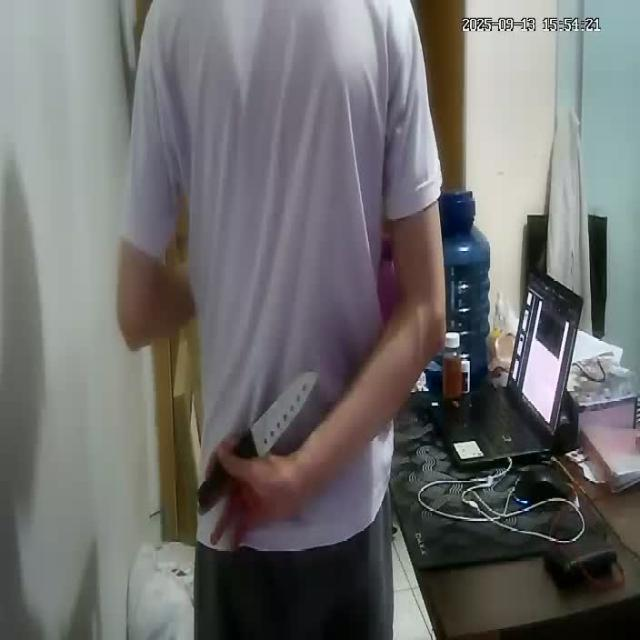senjata_tajam: (241, 364, 321, 458)
